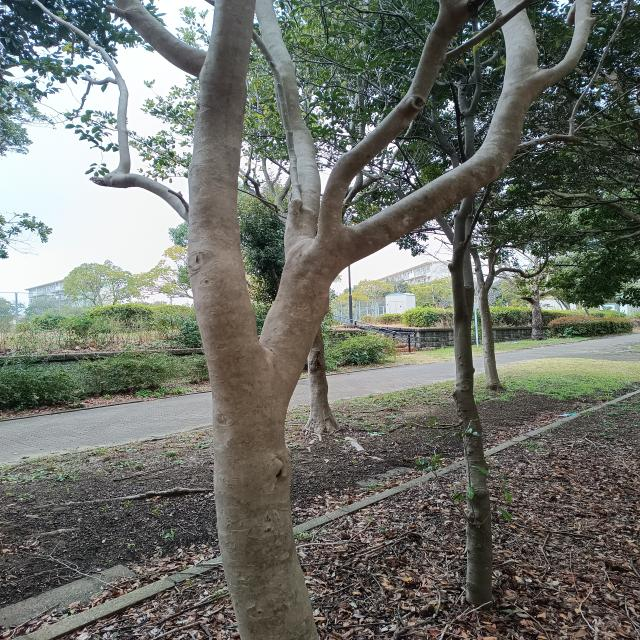Branch: (330, 0, 549, 265), (188, 0, 261, 359), (260, 237, 345, 372), (113, 0, 205, 77)
Twig: (316, 1, 473, 243), (254, 0, 319, 240), (91, 79, 190, 220), (31, 0, 123, 79), (446, 0, 539, 62), (540, 0, 592, 86), (74, 75, 117, 117), (167, 191, 189, 211), (103, 5, 126, 17), (80, 116, 105, 127)
